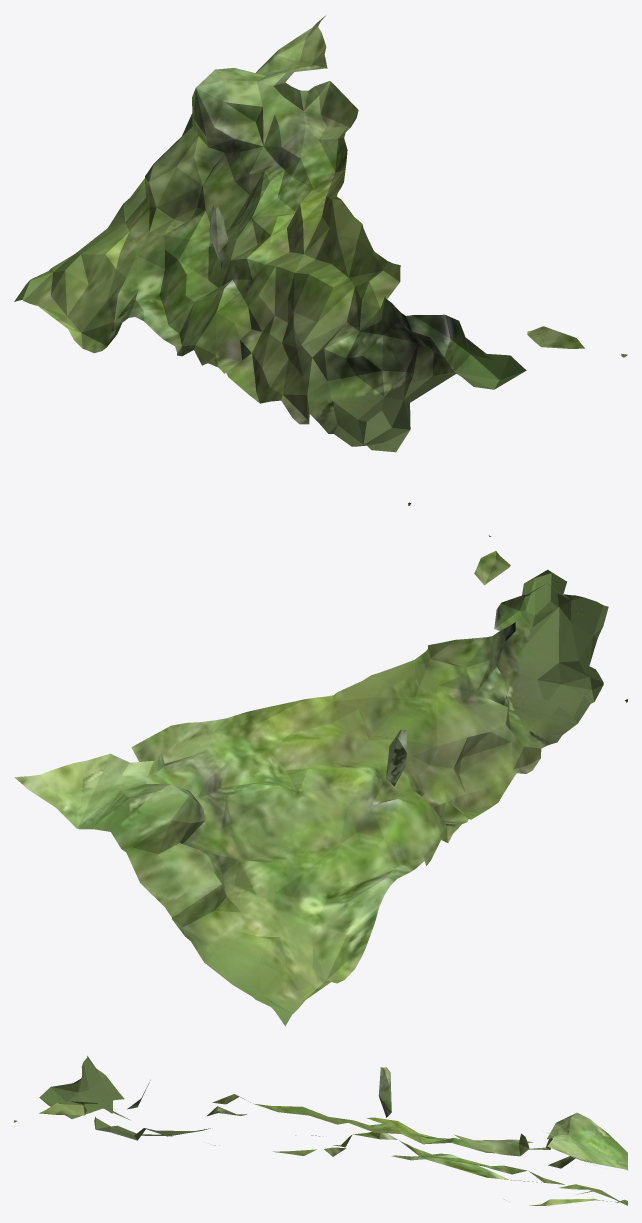
3 renders of one model, top to bottom at view 1: azimuth 30°, elevation 25°; view 2: azimuth 150°, elevation 25°; view 3: azimuth 270°, elevation 25°, orthographic. The views are drawn at different scales.
Size of the model in its own units: 11.14 by 7.18 by 26.11.
Materials: 1 (1 with a texture image).
